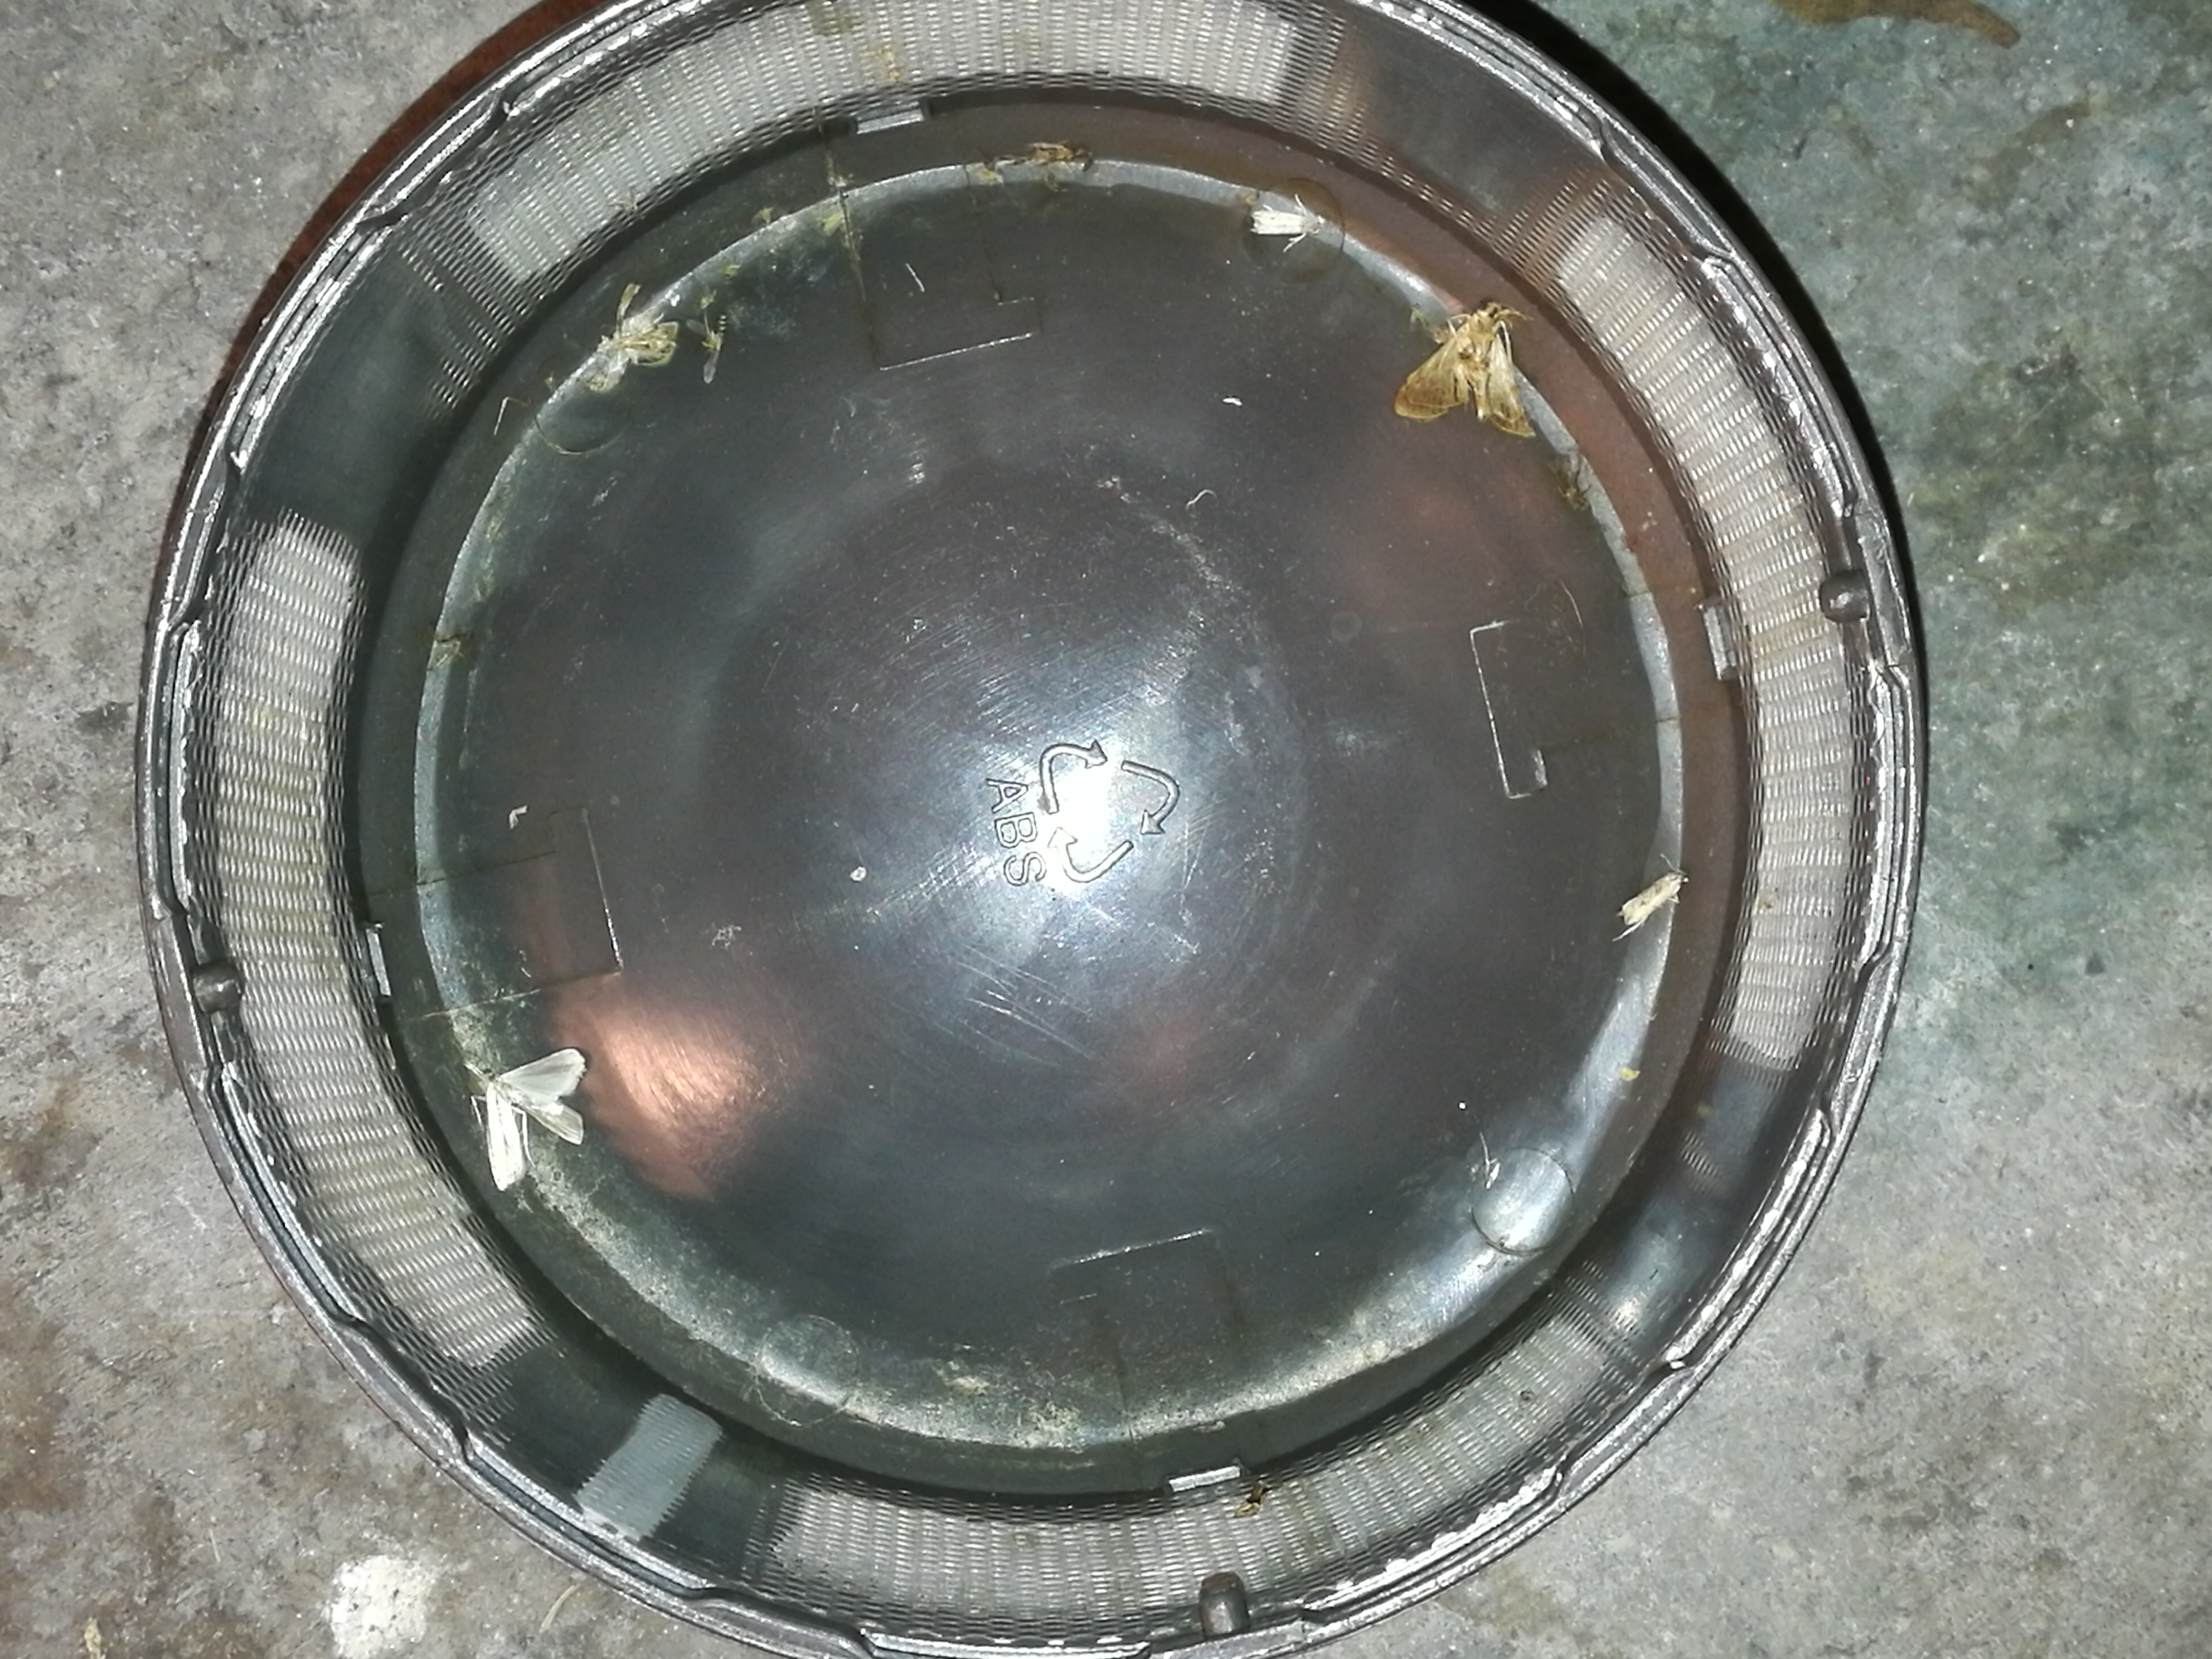mosquito: (1620, 873, 1684, 925), (1252, 213, 1322, 237), (587, 343, 622, 392)
moth: (1395, 300, 1533, 436), (467, 1047, 585, 1188), (601, 321, 672, 364)
